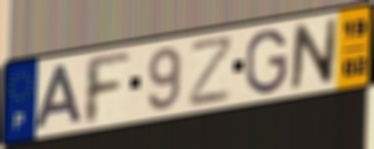9: (144, 44, 184, 113)
A: (32, 62, 85, 133)
F: (82, 50, 134, 127)
G: (244, 27, 289, 97)
N: (287, 16, 339, 93)
Z: (188, 32, 236, 110)
